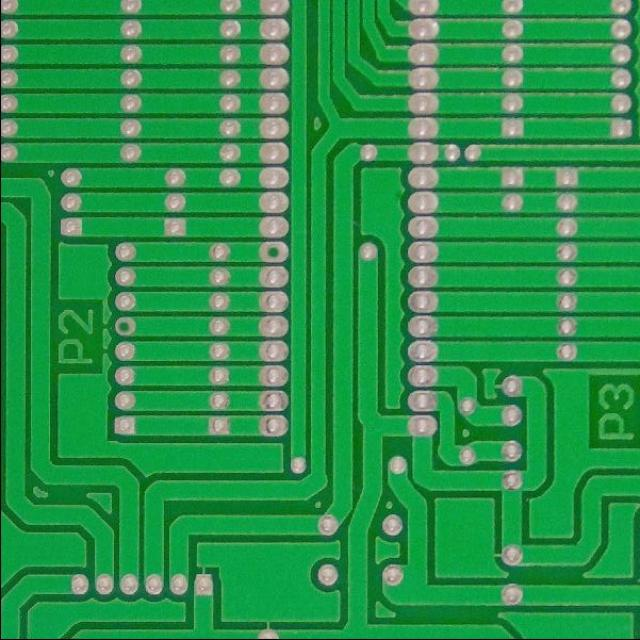Missing_Hole: (256, 238, 290, 265), (113, 313, 137, 338)
